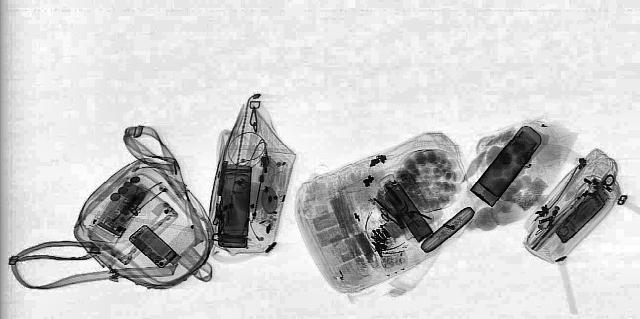Scissors: (372, 208, 406, 226)
